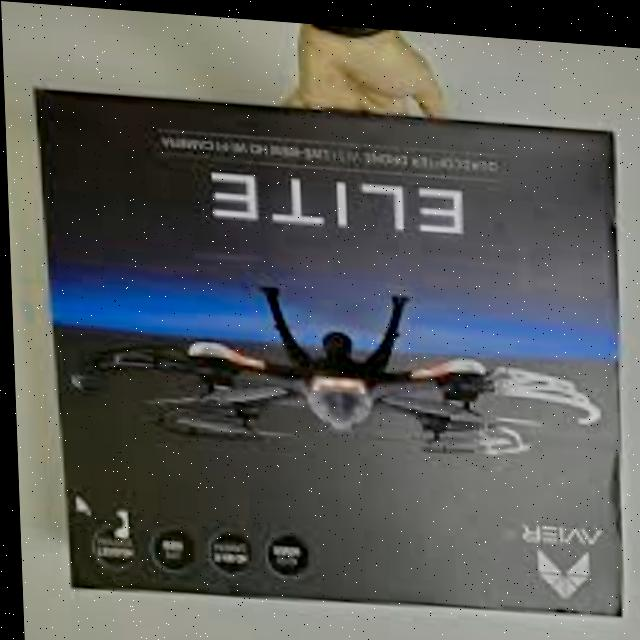drone: (62, 263, 603, 485)
